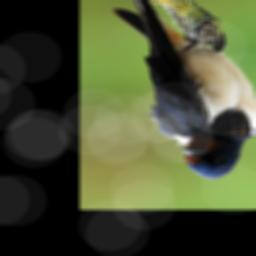Swallow: (111, 0, 256, 180)
